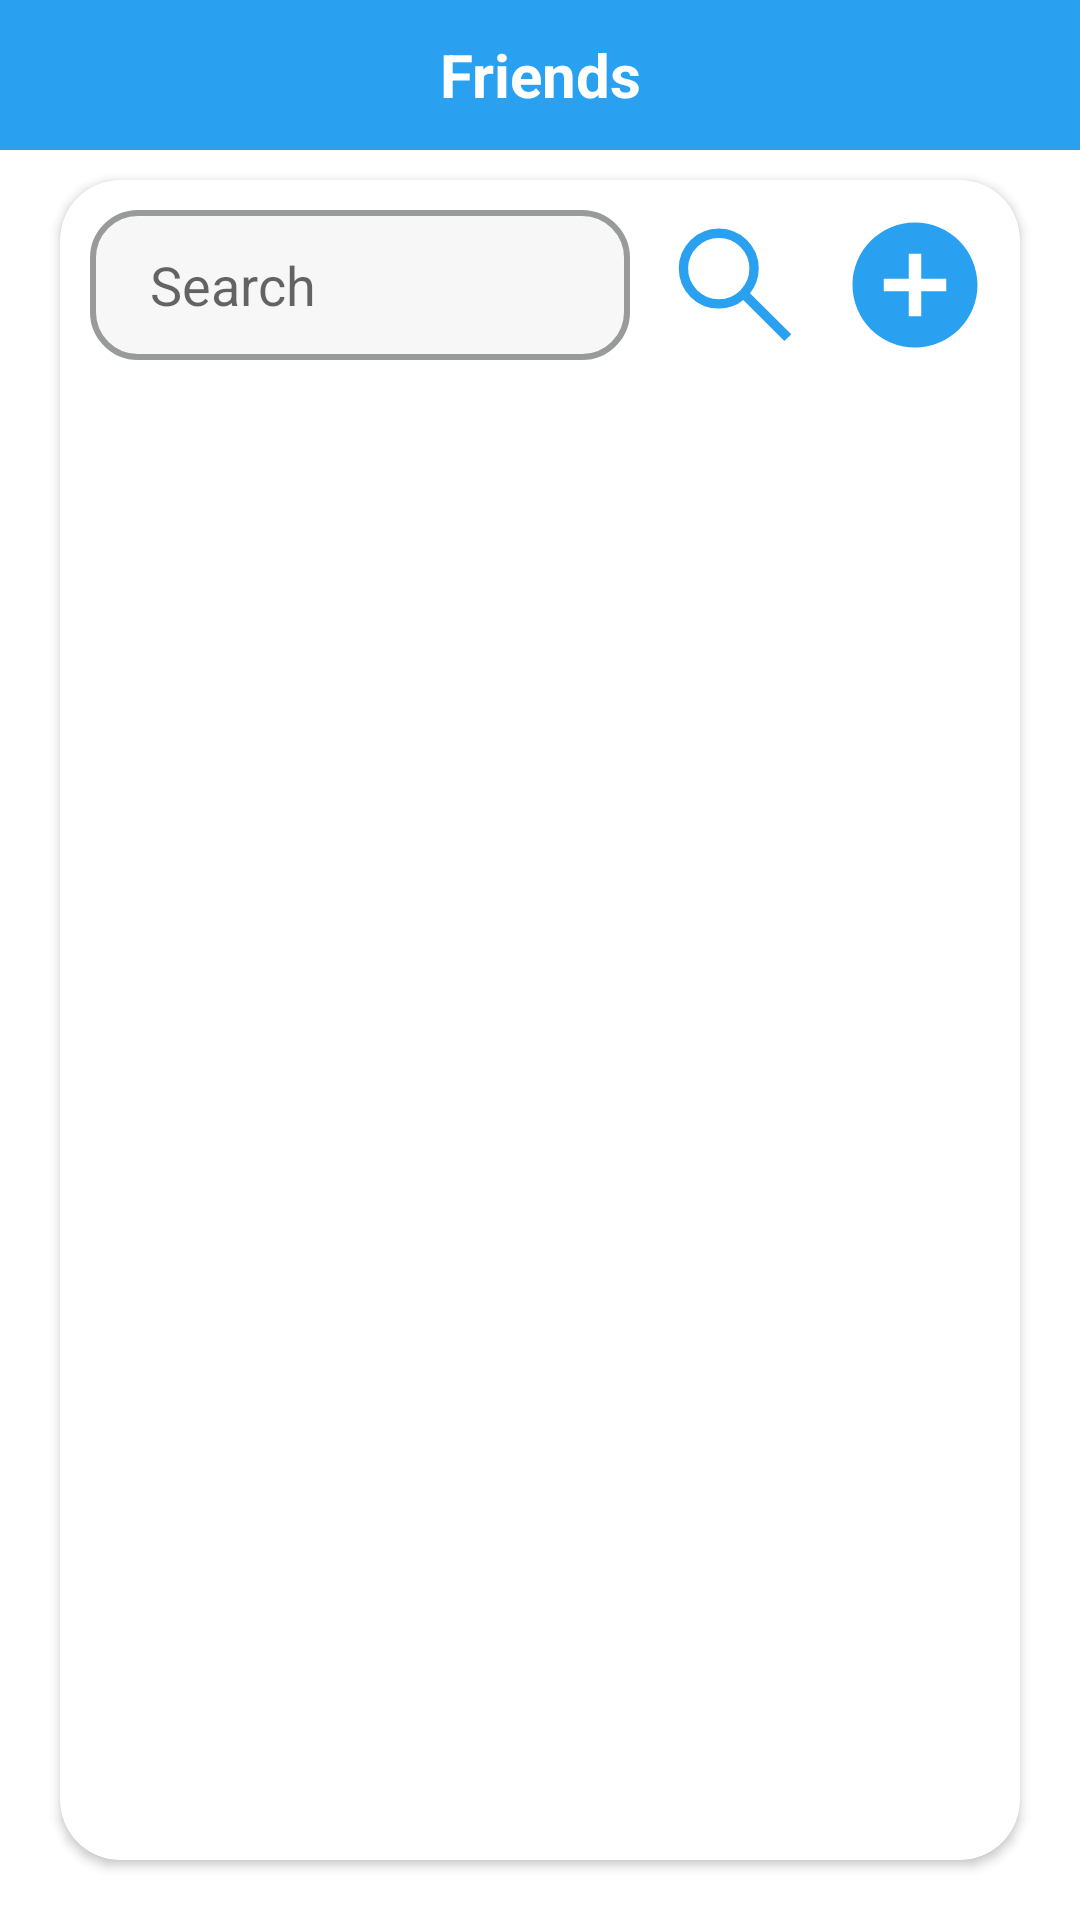

Icons on this 1080w x 1920h Android screen, each with the point to tap as (x,y):
Add Friend: (915,285)
